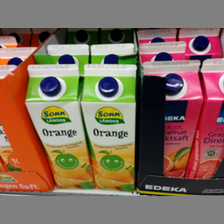juice: (24, 64, 93, 190), (81, 62, 137, 189), (142, 59, 201, 179)
